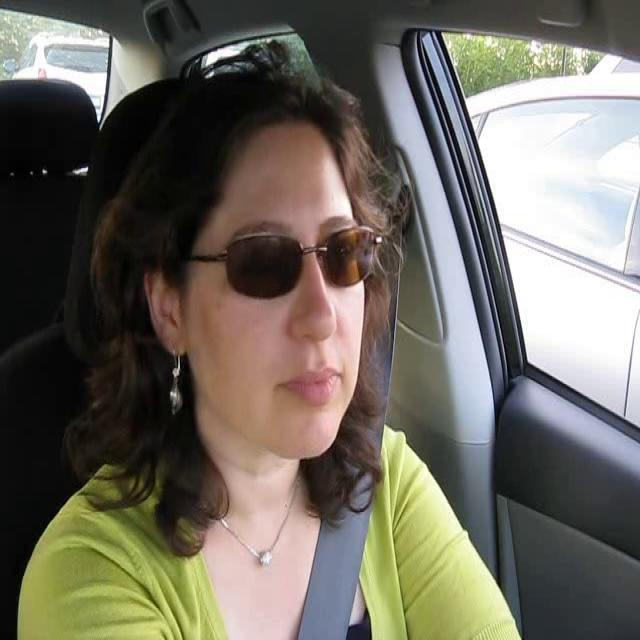close: (280, 363, 347, 408)
